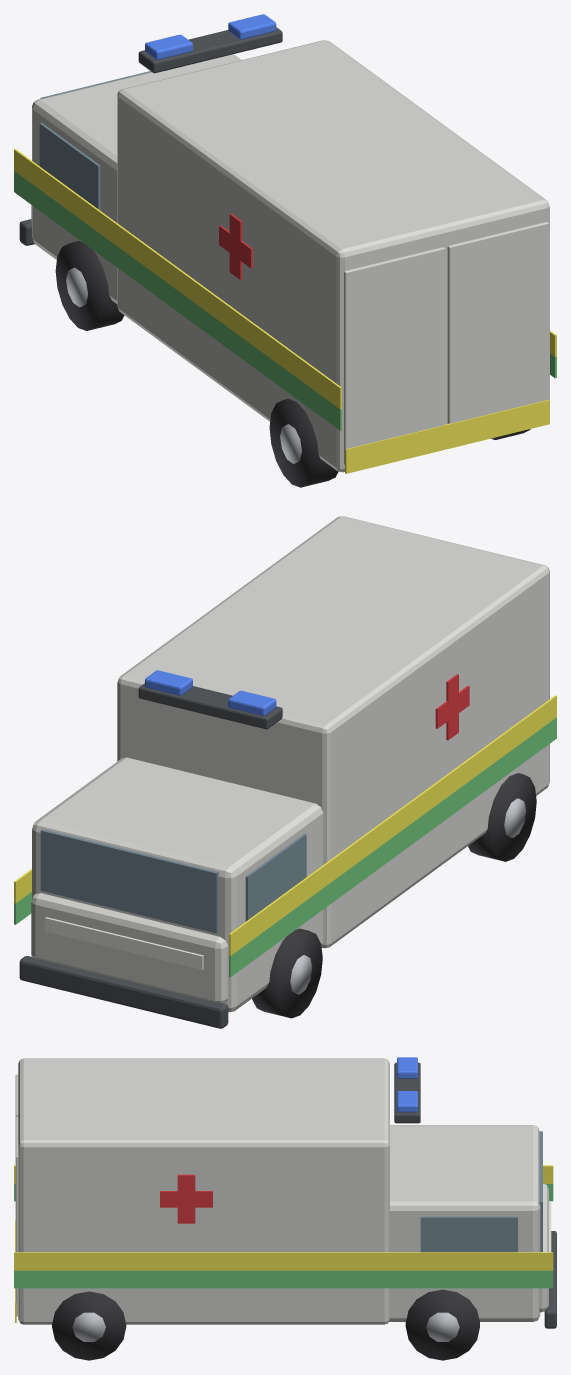
Rendered from Ambulance.fbx.
The picture shows the model from 3 angles, top to bottom: view 1: azimuth 30°, elevation 25°; view 2: azimuth 150°, elevation 25°; view 3: azimuth 270°, elevation 25°; orthographic projection. The views are drawn at different scales.
Visible parts, largest first — view 1: Ambulance_Box, Ambulance_RearDoorL, Ambulance_RearDoorR, Ambulance_Cab, Ambulance_StripeYL, Ambulance_StripeGL, Ambulance_RearChevrons, Ambulance_Wheel0, Ambulance_Wheel2, Ambulance_SideWindowL, Ambulance_LightBar, Ambulance_LampR (+5 smaller); view 2: Ambulance_Box, Ambulance_Cab, Ambulance_Windscreen, Ambulance_Bonnet, Ambulance_StripeYL, Ambulance_StripeGL, Ambulance_Bumper, Ambulance_Wheel0, Ambulance_Wheel2, Ambulance_SideWindowL, Ambulance_LightBar, Ambulance_Headlights (+5 smaller); view 3: Ambulance_Box, Ambulance_Cab, Ambulance_StripeYR, Ambulance_StripeGR, Ambulance_SideWindowR, Ambulance_Wheel1, Ambulance_Wheel3, Ambulance_CrossHR, Ambulance_LightBar, Ambulance_Hub1, Ambulance_Hub3, Ambulance_CrossVR (+6 smaller).
Boxes of the visible parts, x1,y1,x2,y2 form: Ambulance_Box: [117, 40, 549, 472]; Ambulance_RearDoorL: [344, 247, 445, 464]; Ambulance_RearDoorR: [447, 222, 548, 423]; Ambulance_Cab: [32, 54, 241, 303]; Ambulance_StripeYL: [14, 149, 341, 409]; Ambulance_StripeGL: [14, 171, 341, 430]; Ambulance_RearChevrons: [345, 399, 549, 473]; Ambulance_Wheel0: [55, 241, 124, 330]; Ambulance_Wheel2: [269, 399, 338, 487]; Ambulance_SideWindowL: [39, 123, 100, 210]; Ambulance_LightBar: [138, 27, 282, 73]; Ambulance_LampR: [228, 14, 276, 39]; Ambulance_Box: [117, 516, 549, 948]; Ambulance_Cab: [32, 757, 323, 1012]; Ambulance_Windscreen: [40, 829, 218, 933]; Ambulance_Bonnet: [31, 893, 228, 1003]; Ambulance_StripeYL: [229, 695, 556, 955]; Ambulance_StripeGL: [229, 717, 556, 977]; Ambulance_Bumper: [19, 956, 228, 1028]; Ambulance_Wheel0: [252, 928, 322, 1018]; Ambulance_Wheel2: [468, 773, 536, 861]; Ambulance_SideWindowL: [245, 833, 306, 921]; Ambulance_LightBar: [138, 683, 282, 729]; Ambulance_Headlights: [45, 917, 203, 969]; Ambulance_Box: [18, 1058, 389, 1324]; Ambulance_Cab: [389, 1125, 540, 1321]; Ambulance_StripeYR: [14, 1252, 553, 1270]; Ambulance_StripeGR: [14, 1270, 553, 1288]; Ambulance_SideWindowR: [420, 1216, 517, 1252]; Ambulance_Wheel1: [405, 1289, 479, 1360]; Ambulance_Wheel3: [52, 1291, 126, 1360]; Ambulance_CrossHR: [160, 1191, 212, 1207]; Ambulance_LightBar: [394, 1062, 420, 1123]; Ambulance_Hub1: [426, 1312, 459, 1341]; Ambulance_Hub3: [72, 1312, 105, 1341]; Ambulance_CrossVR: [177, 1174, 195, 1223].
Size of the model in its own units: 2.44 by 2.93 by 6.14.
